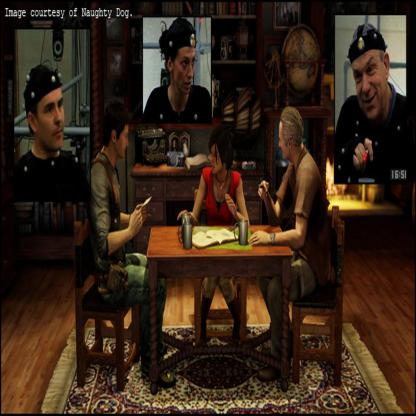face: (352, 53, 385, 120), (35, 91, 65, 152), (174, 47, 196, 96), (280, 123, 290, 161), (118, 127, 129, 161), (211, 145, 222, 174), (174, 142, 177, 148)
